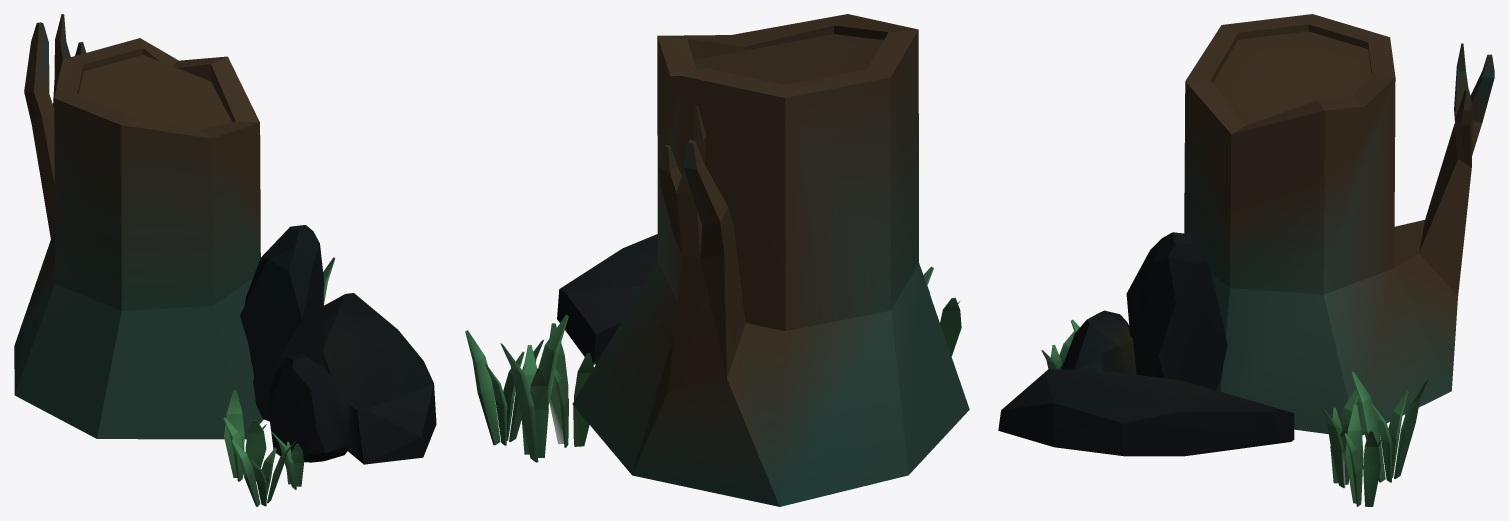
The model's file is trunk_1.fbx.
3 renders of one model, left to right at view 1: azimuth 30°, elevation 25°; view 2: azimuth 150°, elevation 25°; view 3: azimuth 270°, elevation 25°, orthographic. The views are drawn at different scales.
Visible parts, largest first — view 1: Cylinder.001, Cube.482, Cube.511; view 2: Cylinder.001, Cube.512, Cube.482, Cube.511; view 3: Cylinder.001, Cube.482, Cube.512, Cube.511.
Part boxes in pixels (left/top/right/bottom): Cylinder.001: left=14, top=14, right=263, bottom=439; Cube.482: left=240, top=225, right=436, bottom=464; Cube.511: left=223, top=390, right=303, bottom=506; Cylinder.001: left=572, top=14, right=969, bottom=506; Cube.512: left=465, top=314, right=595, bottom=462; Cube.482: left=557, top=234, right=657, bottom=364; Cube.511: left=922, top=266, right=961, bottom=356; Cylinder.001: left=1184, top=14, right=1494, bottom=435; Cube.482: left=998, top=232, right=1294, bottom=456; Cube.512: left=1322, top=371, right=1427, bottom=506; Cube.511: left=1041, top=319, right=1079, bottom=369.
Size of the model in its own units: 250 by 250 by 312.
